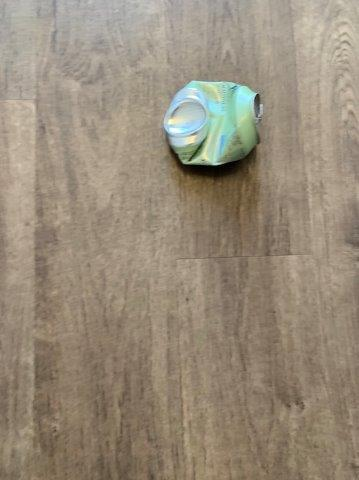kaleng: (164, 81, 261, 164)
